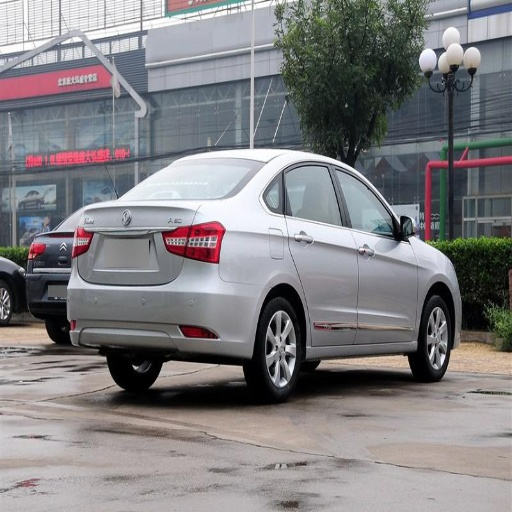back_bumper: (29, 258, 263, 356)
back_right_door: (282, 163, 357, 343)
